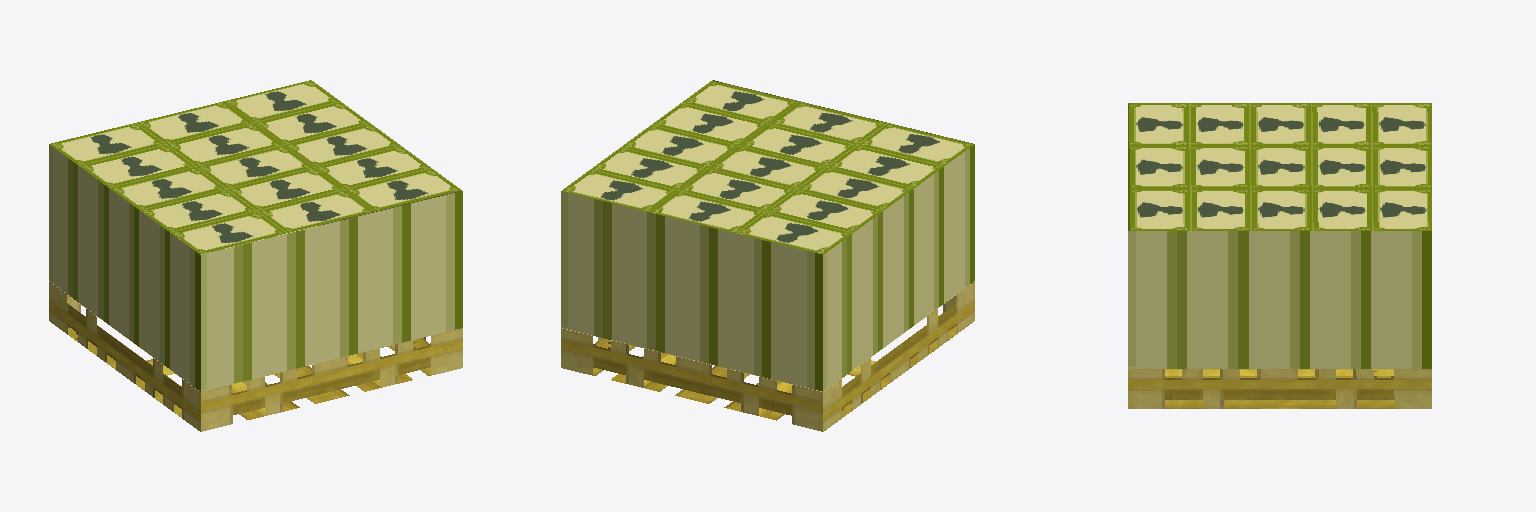
The picture shows the model from 3 angles: view 1: azimuth 30°, elevation 25°; view 2: azimuth 150°, elevation 25°; view 3: azimuth 270°, elevation 25°; orthographic projection.
Visible parts, largest first — view 1: stack-object_stack-cube, pallet-object_Cube.001; view 2: stack-object_stack-cube, pallet-object_Cube.001; view 3: stack-object_stack-cube, pallet-object_Cube.001.
Boxes of the visible parts, box(x1,y1,x2,y2) form: stack-object_stack-cube: box(49, 80, 462, 391); pallet-object_Cube.001: box(49, 281, 462, 431); stack-object_stack-cube: box(561, 80, 974, 391); pallet-object_Cube.001: box(561, 281, 974, 431); stack-object_stack-cube: box(1128, 103, 1431, 368); pallet-object_Cube.001: box(1128, 369, 1431, 408).
Size of the model in its own units: 1 by 0.645 by 1.
1 materials, 1 textured.